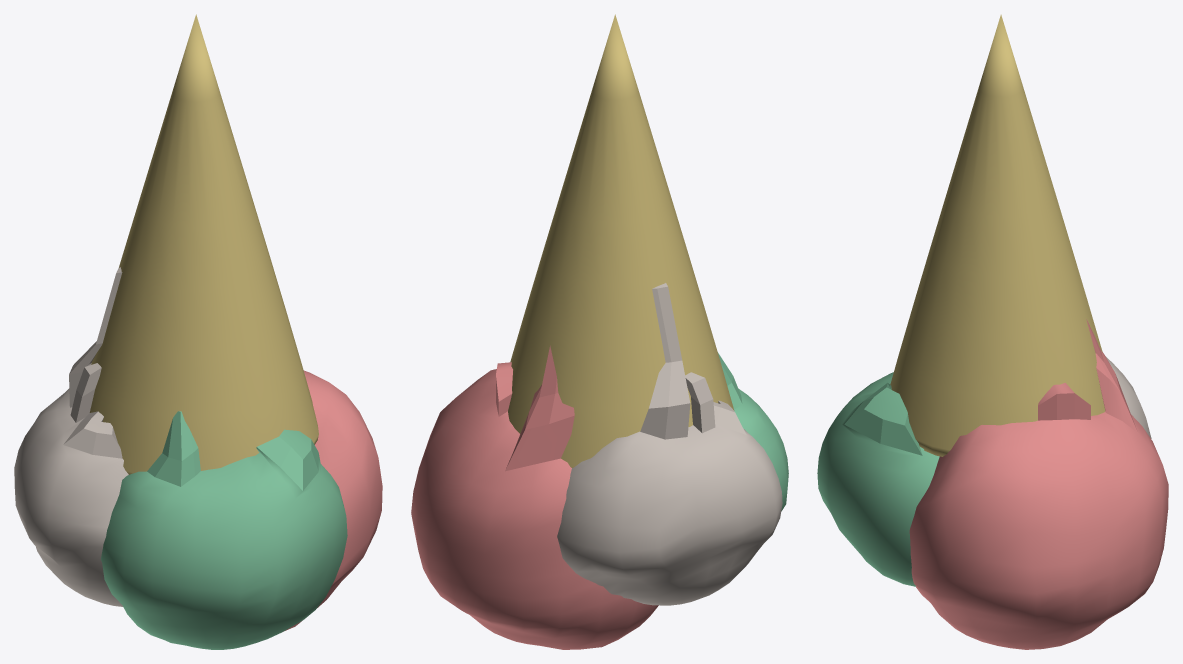
File: Ice_cream.fbx
3 views of the same model, side by side, from view 1: azimuth 30°, elevation 25°; view 2: azimuth 150°, elevation 25°; view 3: azimuth 270°, elevation 25° (orthographic). The views are drawn at different scales.
Parts seen in each view (by area): view 1: pSphere20; view 2: pSphere20; view 3: pSphere20.
Boxes of the visible parts, x1,y1,x2,y2 form: pSphere20: (14,14,382,649); pSphere20: (411,14,788,649); pSphere20: (817,14,1168,649).
Bounding box in the file's own units: 18.66 × 32.07 × 16.94.
